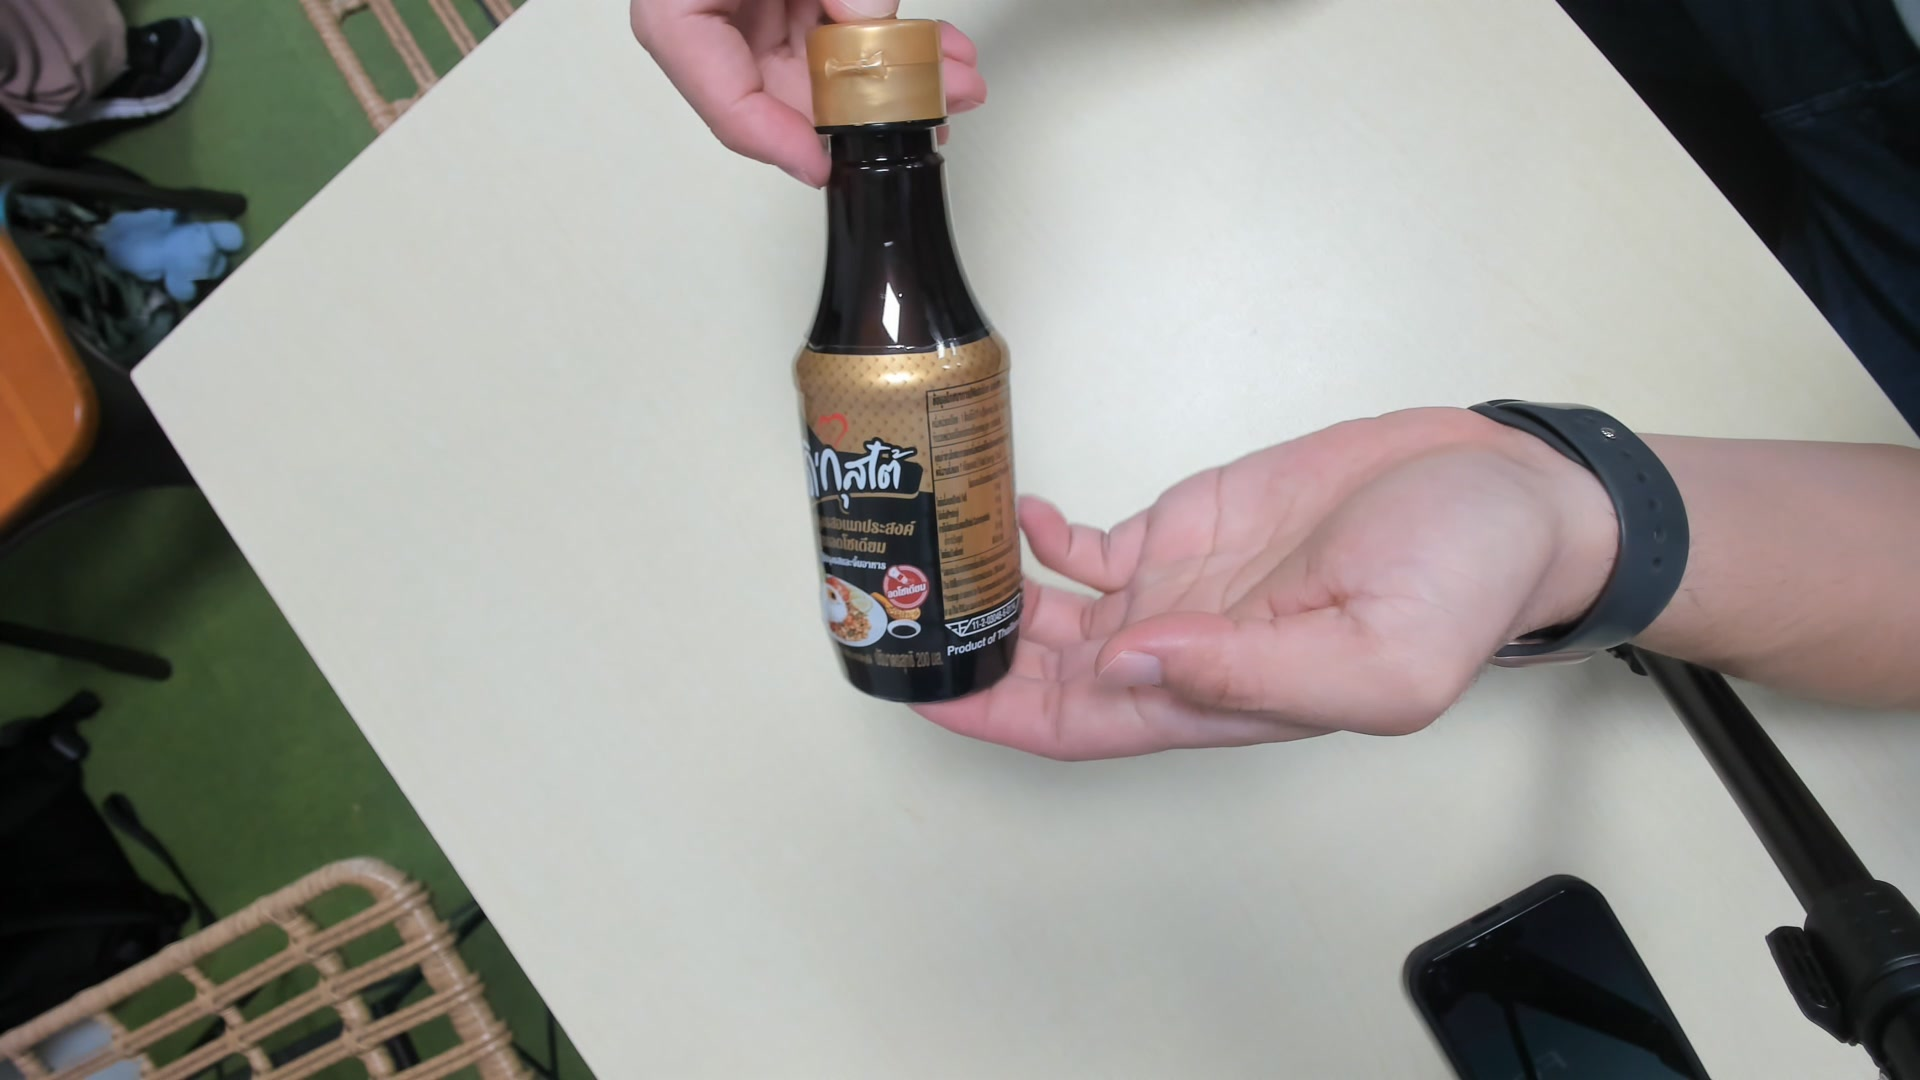OtherSauceDressing_200-299g_NonHalal_NonHealthy: (785, 20, 1023, 707)
